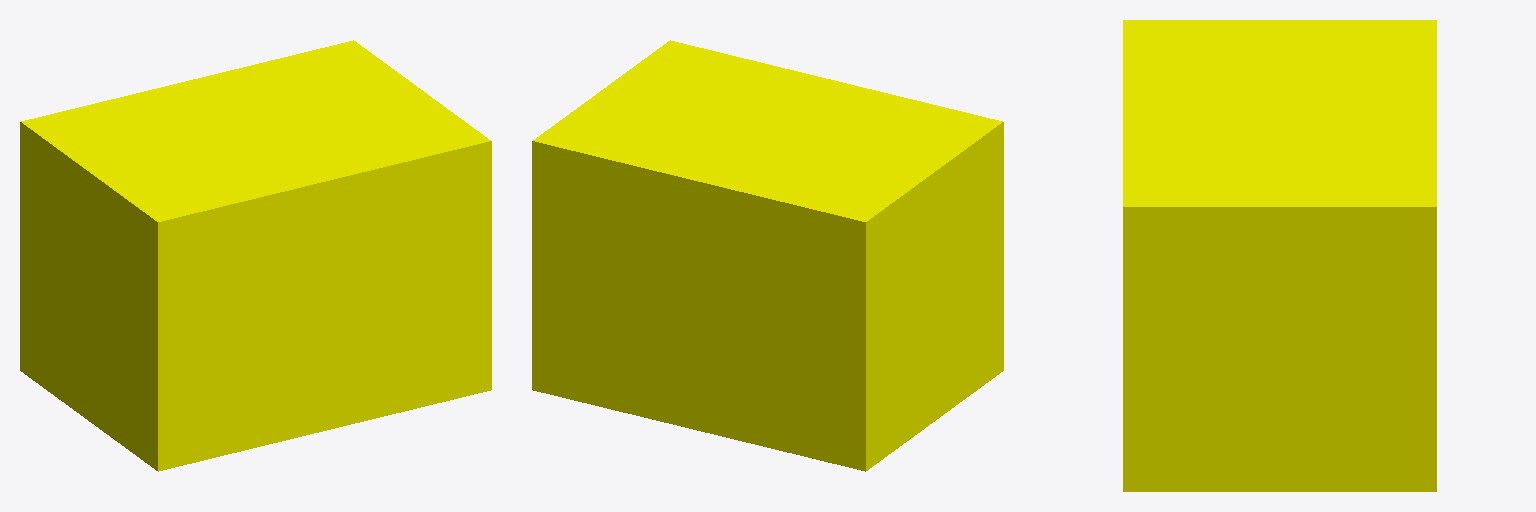
The robot description file, URDF, robot "block_red":
<?xml version="1.0"?>
<!-- color: yellow -->
<robot name="block_red">
  <link name="base_link">
    <contact>
      <lateral_friction value="0.7"/>
      <spinning_friction value=".001"/>
    </contact>
    <inertial>
      <origin rpy="0 0 0" xyz="0 0 0"/>
      <mass value="1"/>
      <inertia ixx="1" ixy="0" ixz="0" iyy="1" iyz="0" izz="1"/>
    </inertial>
    <visual>
      <origin rpy="0 0 0" xyz="0.0 0.0 0.0"/>
      <geometry>
        <box size="0.07 0.05 0.05"/>
      </geometry>
      <material name="yellow">
        <color rgba="1.0 1.0 0.0 1.0"/>
      </material>
    </visual>
    <collision>
      <origin rpy="0 0 0" xyz="0.0 0.0 0.0"/>
      <geometry>
        <box size="0.07 0.05 0.05"/>
      </geometry>
    </collision>
  </link>
</robot>

--- What the picture shows (computed from the rendered views, not written in the file) ---
The picture shows the robot from 3 angles, left to right: view 1: azimuth 30°, elevation 25°; view 2: azimuth 150°, elevation 25°; view 3: azimuth 270°, elevation 25°; orthographic projection.
Model block_red with 1 links and 0 joints (none), rooted at base_link, posed all joints at 0.
Links seen in each view (by area): view 1: base_link; view 2: base_link; view 3: base_link.
Link boxes in pixels (x1=…): base_link: x1=20, y1=40, x2=491, y2=471; base_link: x1=532, y1=40, x2=1003, y2=471; base_link: x1=1123, y1=20, x2=1436, y2=491.
Size in the robot's own frame: 0.07 by 0.05 by 0.05 metres.
Geometry: primitives only (box / cylinder / sphere), no mesh files.
